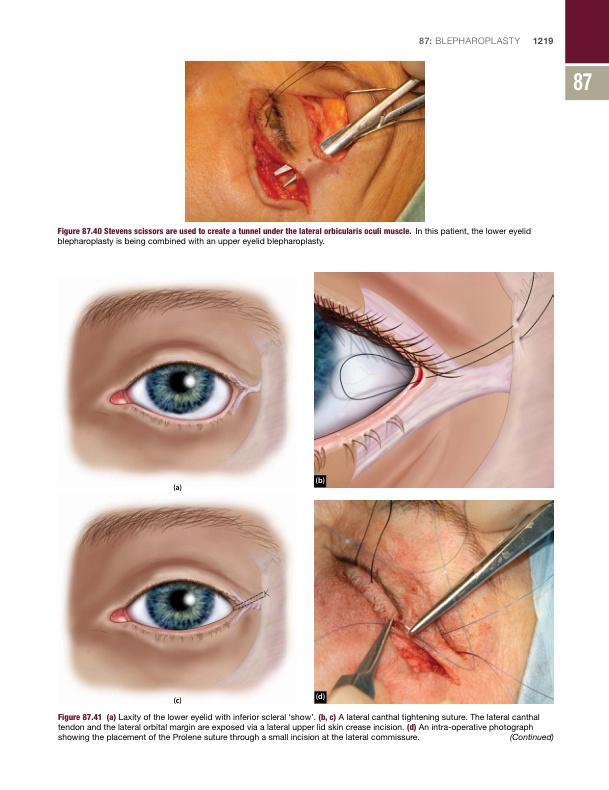caption: (56, 712, 555, 743), (56, 226, 532, 248), (315, 692, 326, 702), (172, 483, 183, 492), (315, 476, 325, 485), (173, 696, 182, 705)
header: (417, 35, 521, 45)
image: (53, 272, 299, 496), (313, 270, 554, 489), (52, 499, 298, 710), (312, 498, 554, 706), (183, 60, 426, 223)
